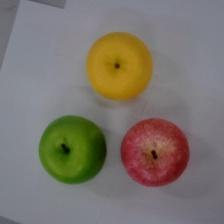green: (39, 116, 107, 184)
red: (120, 118, 190, 188)
yellow: (86, 32, 153, 100)
